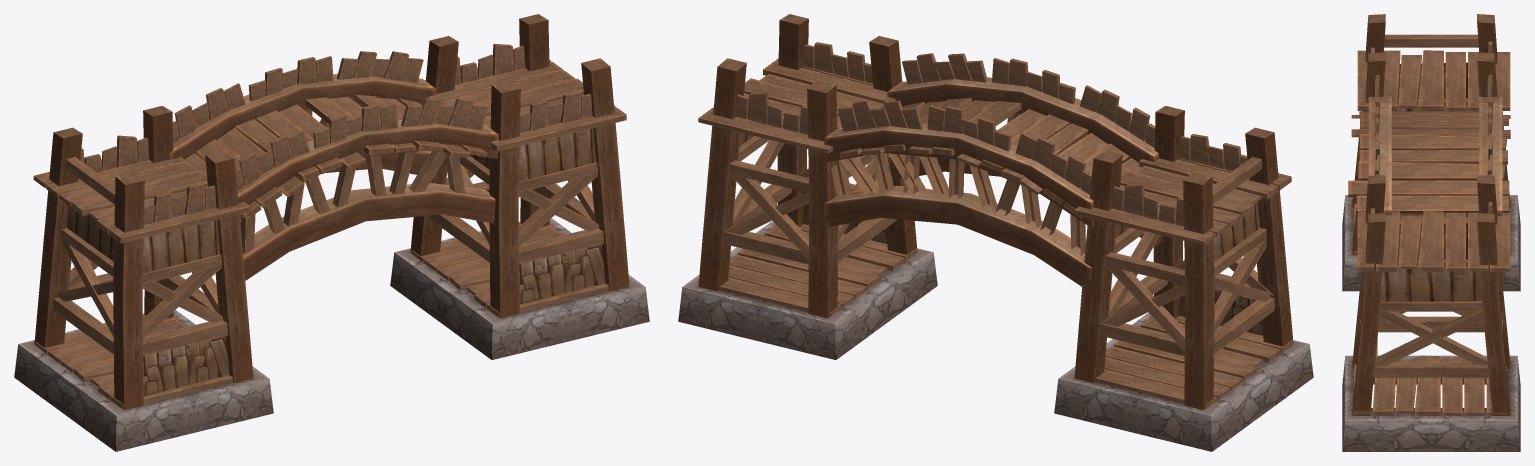
The model's file is FH_Env_Guanqia_01.FBX.
3 views of the same model, side by side, from view 1: azimuth 30°, elevation 25°; view 2: azimuth 150°, elevation 25°; view 3: azimuth 270°, elevation 25° (orthographic). The views are drawn at different scales.
Parts seen in each view (by area): view 1: Object57; view 2: Object57; view 3: Object57.
Part boxes in pixels (x1,y1,x2,y2): Object57: (14,14,649,451); Object57: (678,14,1313,451); Object57: (1342,14,1520,451).
Bounding box in the file's own units: 17.84 × 8.42 × 5.88.
